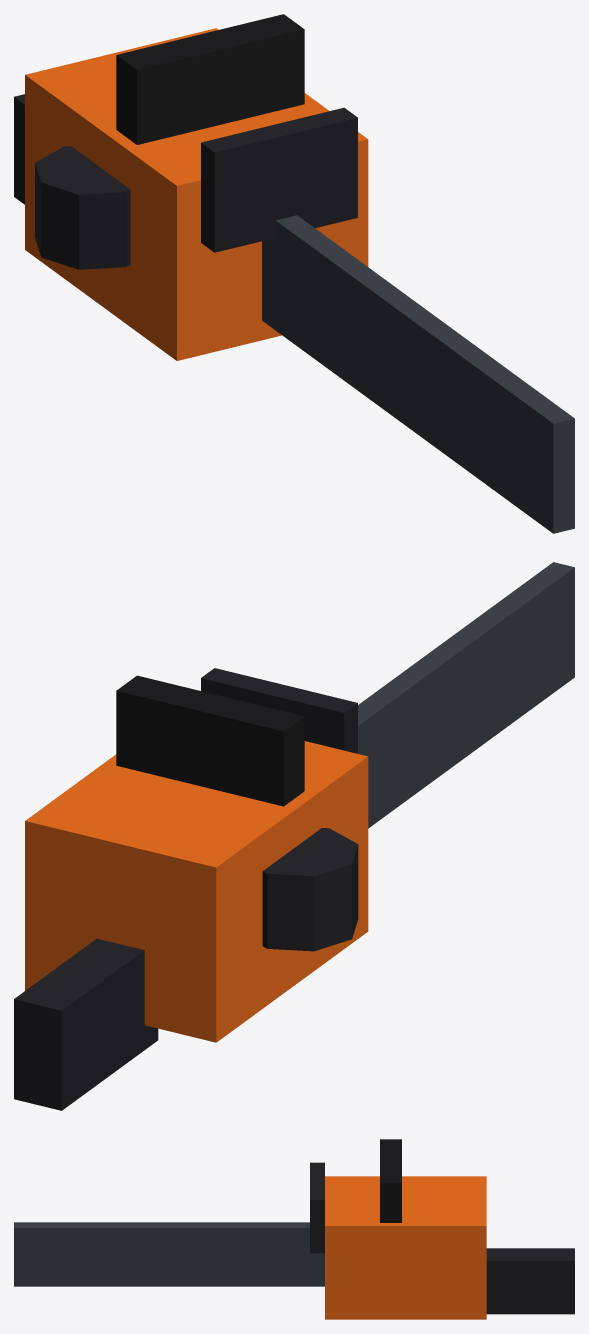
File: Weapon_Chainsaw.obj
3 views of the same model, one above another, from view 1: azimuth 30°, elevation 25°; view 2: azimuth 150°, elevation 25°; view 3: azimuth 270°, elevation 25° (orthographic). The views are drawn at different scales.
Visible parts, largest first — view 1: SawChainTeeth, EngineMotorBlock, TopWrapHandle, HandGuardPlate, RecoilStarter, RearHandle; view 2: EngineMotorBlock, SawChainTeeth, TopWrapHandle, RearHandle, RecoilStarter, HandGuardPlate; view 3: EngineMotorBlock, SawChainTeeth, RearHandle, TopWrapHandle, HandGuardPlate.
Part boxes in pixels (x1=…): SawChainTeeth: x1=262, y1=215, x2=574, y2=533; EngineMotorBlock: x1=25, y1=28, x2=368, y2=360; TopWrapHandle: x1=116, y1=14, x2=304, y2=144; HandGuardPlate: x1=201, y1=107, x2=357, y2=252; RecoilStarter: x1=35, y1=146, x2=130, y2=269; RearHandle: x1=14, y1=94, x2=24, y2=204; EngineMotorBlock: x1=25, y1=741, x2=368, y2=1042; SawChainTeeth: x1=358, y1=562, x2=574, y2=828; TopWrapHandle: x1=116, y1=675, x2=304, y2=806; RearHandle: x1=14, y1=938, x2=158, y2=1110; RecoilStarter: x1=262, y1=828, x2=358, y2=951; HandGuardPlate: x1=201, y1=668, x2=357, y2=753; EngineMotorBlock: x1=325, y1=1176, x2=486, y2=1319; SawChainTeeth: x1=14, y1=1222, x2=324, y2=1286; RearHandle: x1=486, y1=1248, x2=574, y2=1314; TopWrapHandle: x1=380, y1=1139, x2=401, y2=1222; HandGuardPlate: x1=310, y1=1162, x2=324, y2=1253.
Size of the model in its own units: 0.21 by 0.22 by 0.7625.
